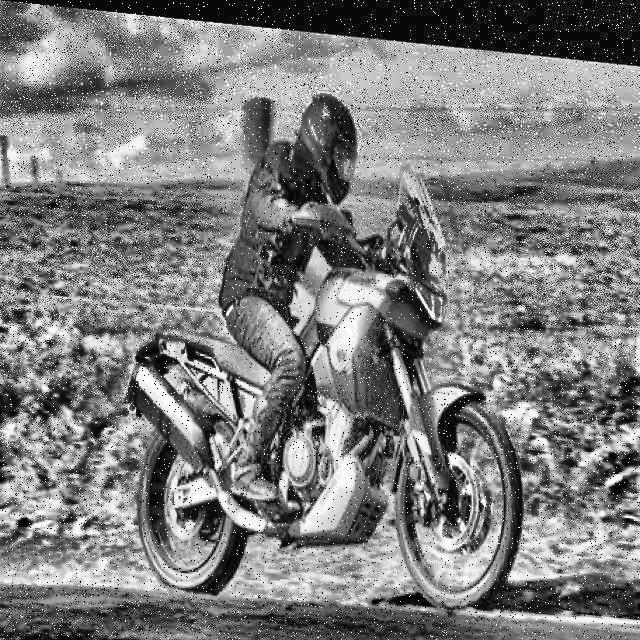Helmet: (292, 79, 360, 203)
